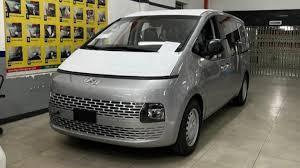hyundai: (77, 73, 108, 90)
